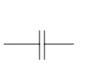Capacitor: (27, 30, 59, 61)
